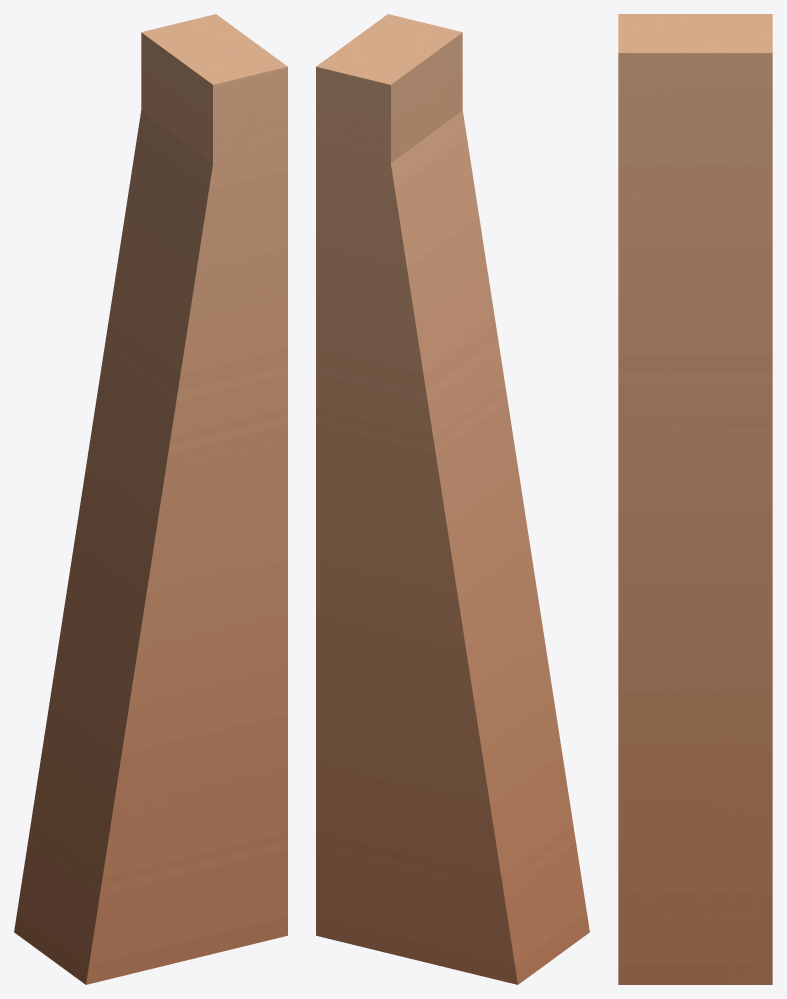
The model's file is wall-kc-wall-stud.glb.
The picture shows the model from 3 angles, left to right: view 1: azimuth 30°, elevation 25°; view 2: azimuth 150°, elevation 25°; view 3: azimuth 270°, elevation 25°; orthographic projection. The views are drawn at different scales.
Visible parts, largest first — view 1: wall-stud; view 2: wall-stud; view 3: wall-stud.
Boxes of the visible parts, x1,y1,x2,y2 form: wall-stud: (14, 14, 287, 984); wall-stud: (316, 14, 589, 984); wall-stud: (618, 14, 772, 984).
Bounding box in the file's own units: 1.08 × 4.44 × 0.6664.
Materials: 1 (1 with a texture image).
